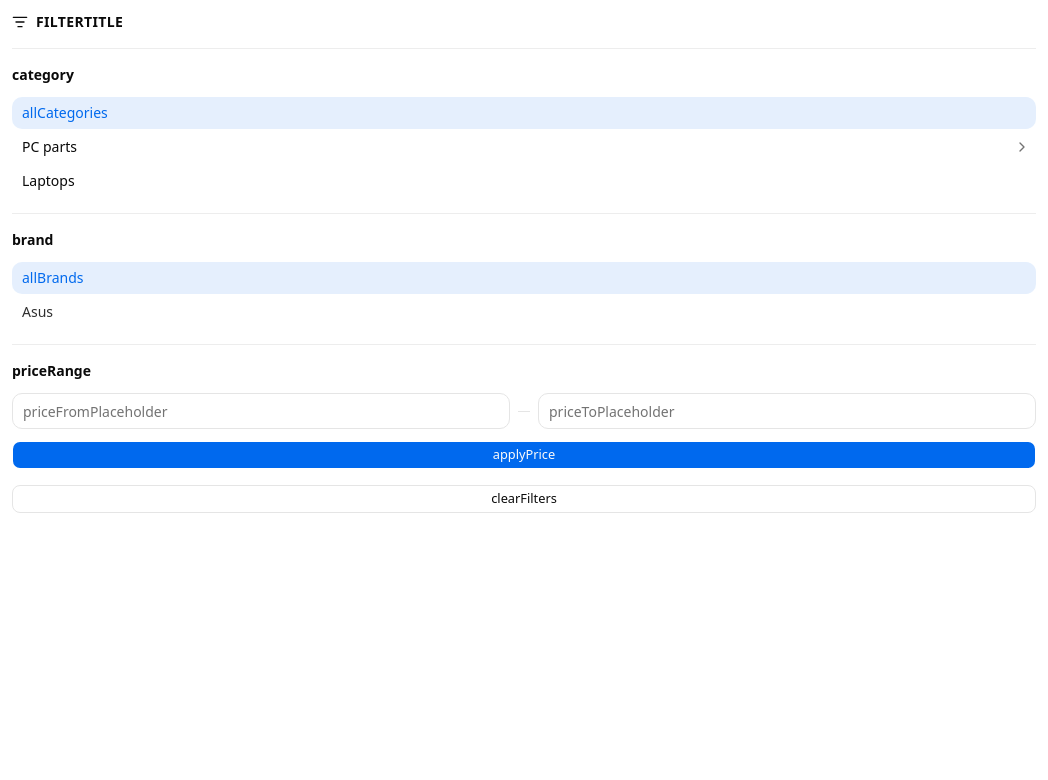
Test: opens a parent as it is chosen, so its children can narrow the choice
What coordinates should you click on to do the following:
click the radio button labelled "PC parts"
I would click on:
 (50, 146)
Its box is [22,137,77,156].
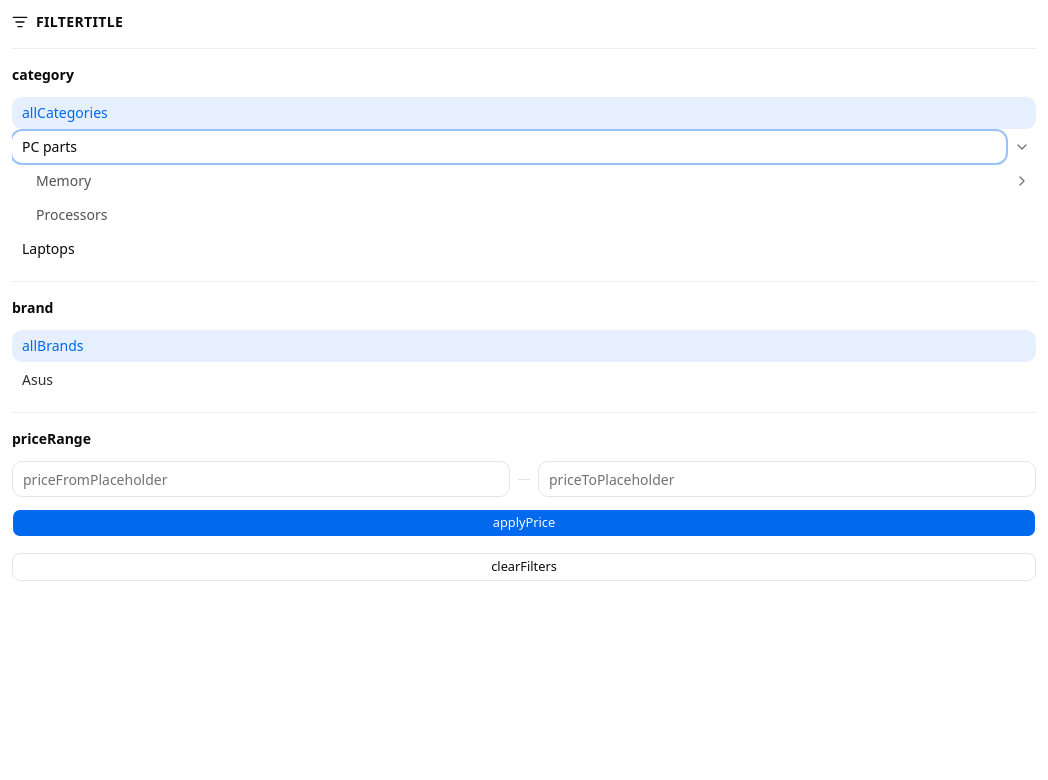
Expected: the radio button labelled "Memory" is shown, [36,171,91,190]
